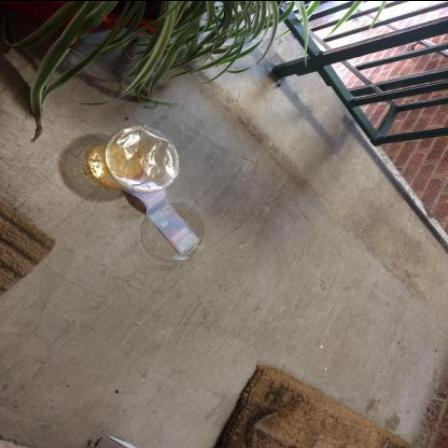Lid: (144, 202, 210, 261)
Plastic bag - wrapper: (107, 124, 181, 193)
Plastic container: (89, 127, 181, 194)
Unlabeled litter: (125, 189, 202, 255)
